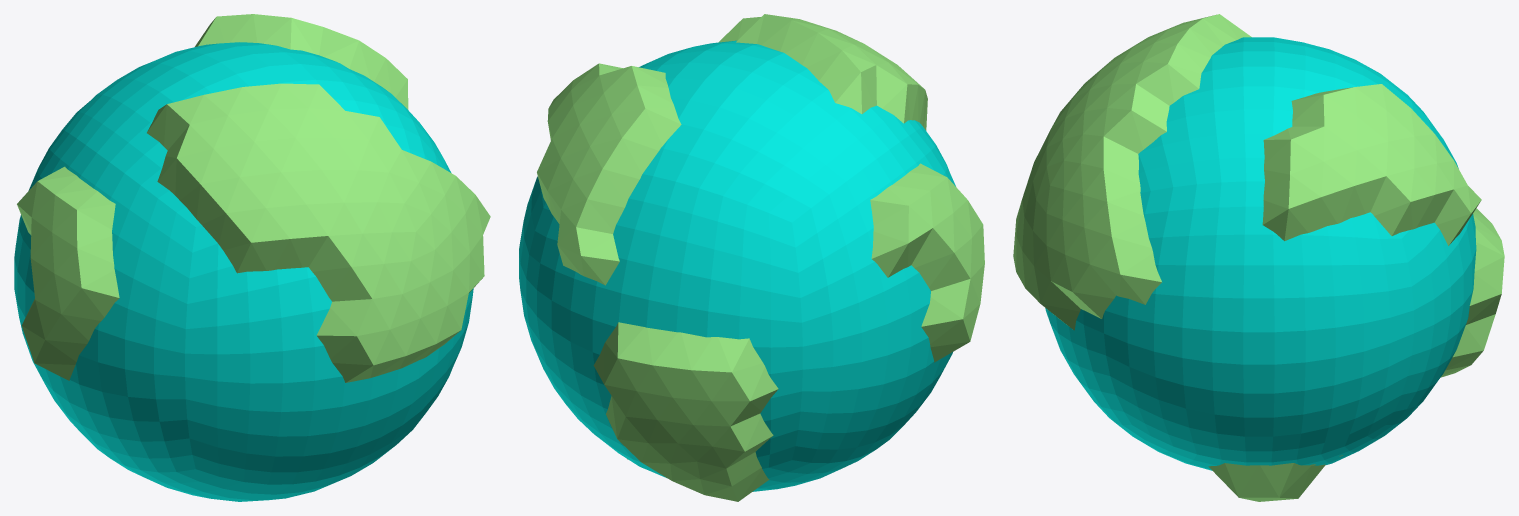
File: Earth.fbx
3 renders of one model, left to right at view 1: azimuth 30°, elevation 25°; view 2: azimuth 150°, elevation 25°; view 3: azimuth 270°, elevation 25°, orthographic. The views are drawn at different scales.
Visible parts, largest first — view 1: Planet Earth; view 2: Planet Earth; view 3: Planet Earth.
Part boxes in pixels (x1,y1,x2,y2): Planet Earth: (14,14,490,501); Planet Earth: (519,14,984,501); Planet Earth: (1013,14,1504,501).
Size of the model in its own units: 966 by 966 by 1024.
